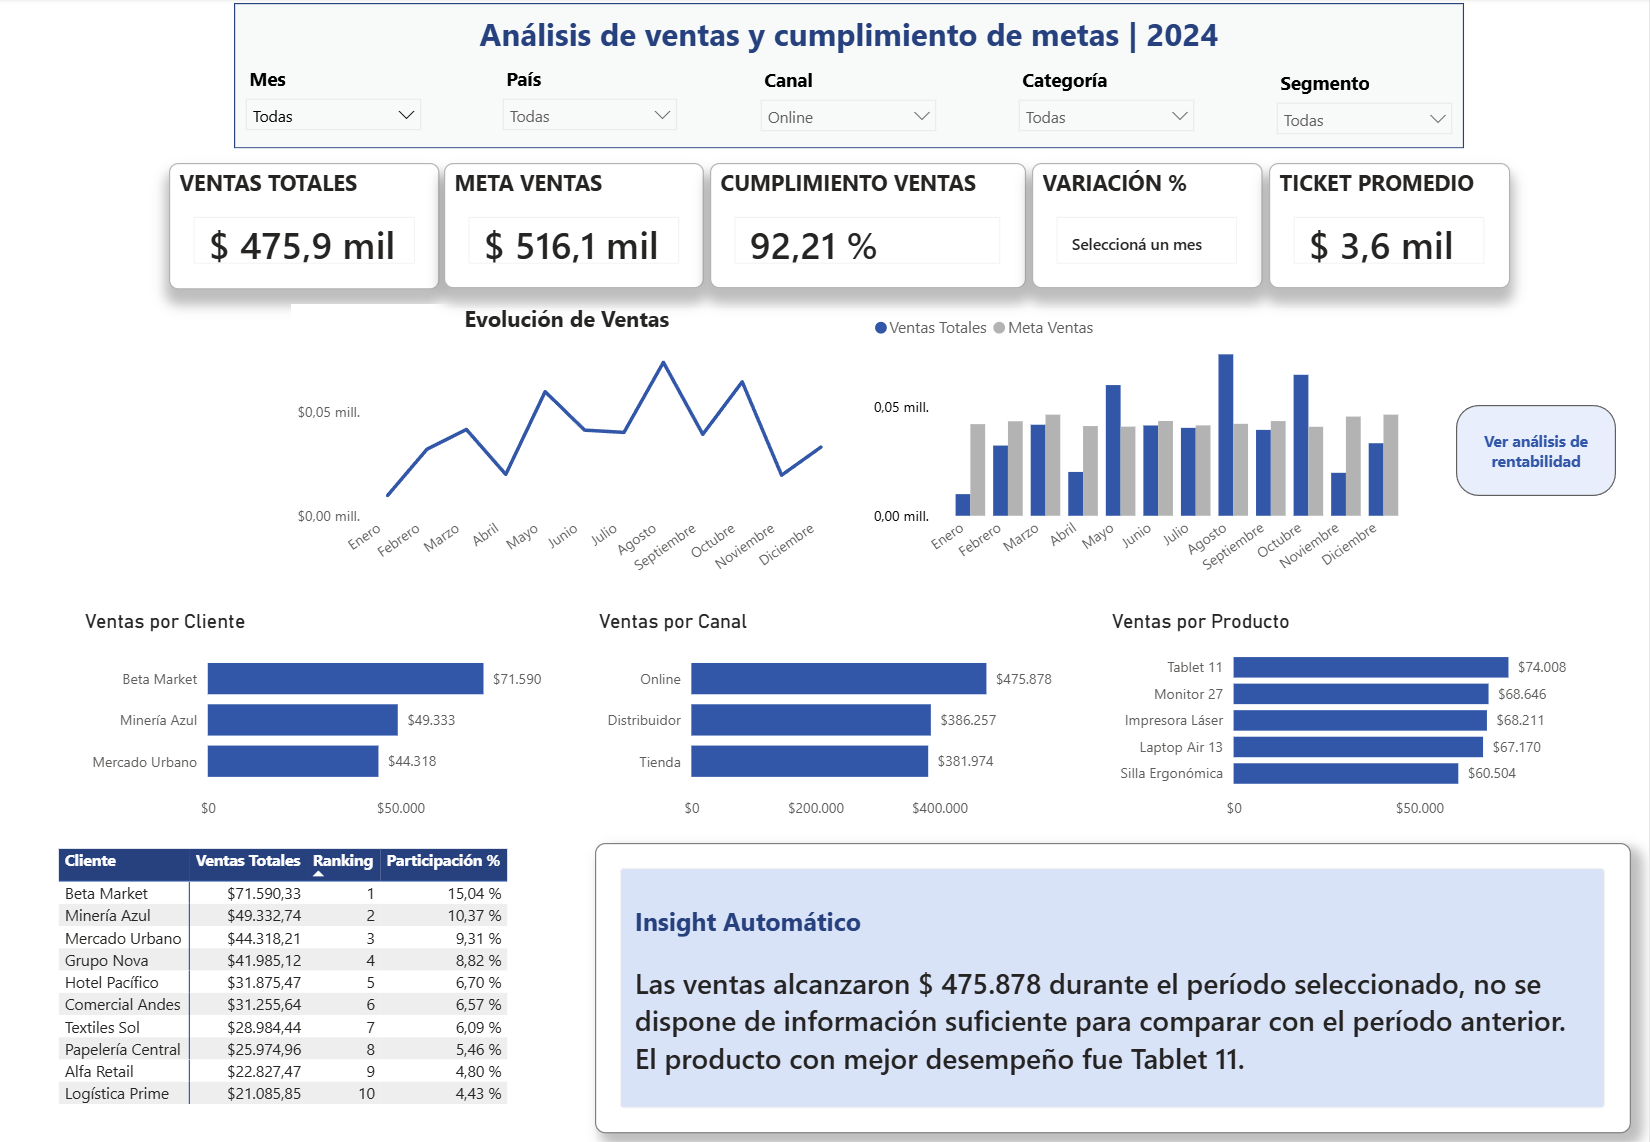

Layout of this report page (visuals, bound fields, positions):
{"tool":"powerbi","page":{"name":"Resumen ejecutivo","canvas":[1408,985],"ordinal":0},"visuals":[{"type":"shape","box":[199.8,4,1050.8,124.2],"z":0},{"type":"textbox","box":[199.8,6.7,1050.8,53.7],"z":1000},{"type":"slicer","fields":{"Values":["Tabla Calendario.NombreMesLargo"]},"box":[199.8,53,169.9,65.5],"z":1000,"group":"g1"},{"type":"group","id":"g1","title":"Grupo 1","box":[199.8,53,1051.3,70],"z":2000},{"type":"slicer","fields":{"Values":["TblDimClienteDirty.Pais"]},"box":[419.7,53,169,65],"z":2000,"group":"g1"},{"type":"slicer","fields":{"Values":["TblDimCanalDirty.Canal"]},"box":[640.1,53.7,170.3,66.3],"z":3000,"group":"g1"},{"type":"cardVisual","title":"VENTAS TOTALES","fields":{"Data":["Medidas.Ventas_Totales"]},"box":[144,141,231,107.5],"z":3000},{"type":"lineChart","title":"Evolución de Ventas","fields":{"Category":["Tabla Calendario.NombreMesLargo"],"Y":["Medidas.Ventas_Totales"]},"box":[248.8,261.2,471.2,251.2],"z":4000},{"type":"slicer","fields":{"Values":["TblDimProductoDirty.Categoria"]},"box":[860.5,54.1,170.3,66.3],"z":5000,"group":"g1"},{"type":"cardVisual","title":"META VENTAS","fields":{"Data":["Medidas.Meta Ventas"]},"box":[379,141,222,107],"z":5000},{"type":"slicer","fields":{"Values":["TblDimClienteDirty.Segmento"]},"box":[1080.9,56.6,170.3,66.3],"z":6000,"group":"g1"},{"type":"clusteredColumnChart","title":"Ventas vs Meta","fields":{"Category":["Tabla Calendario.NombreMesLargo"],"Y":["Medidas.Ventas_Totales","Medidas.Meta Ventas"]},"box":[741.2,261,471.2,251.2],"z":6000},{"type":"barChart","title":"Ventas por Producto","fields":{"Category":["TblDimProductoDirty.Producto"],"Y":["Medidas.Ventas_Totales"]},"box":[945.1,522,419.7,188],"z":7000},{"type":"cardVisual","title":"CUMPLIMIENTO VENTAS","fields":{"Data":["Medidas.Cumplimiento Meta"]},"box":[606.4,141,269.6,107],"z":8000},{"type":"pivotTable","fields":{"Rows":["TblDimClienteDirty.Cliente"],"Values":["Medidas.Ventas_Totales","Medidas.Ranking Clientes","Medidas.Participacion Ventas %"]},"box":[45.3,721.8,446.5,248.4],"z":9000},{"type":"cardVisual","title":"VARIACIÓN %","fields":{"Data":["Medidas.Variacion % Tarjeta"]},"box":[881.6,141,196.9,107],"z":10000},{"type":"cardVisual","fields":{"Data":["Medidas.Insight Automático"]},"box":[508.6,721.8,884.6,248.4],"z":11000},{"type":"barChart","title":"Ventas por Cliente","fields":{"Category":["TblDimClienteDirty.Cliente"],"Y":["Medidas.Ventas_Totales"]},"box":[67.1,522,421.3,188],"z":12000},{"type":"cardVisual","title":"TICKET PROMEDIO","fields":{"Data":["Medidas.Ticket_Promedio"]},"box":[1084,141,205.6,107],"z":13000},{"type":"barChart","title":"Ventas por Canal","fields":{"Category":["TblDimCanalDirty.Canal"],"Y":["Medidas.Ventas_Totales"]},"box":[506.3,522,421,188],"z":14000},{"type":"actionButton","title":"Ver","box":[1243.9,347.7,136.7,77.7],"z":15000}]}

Visuals, with their boxes in screenshot pixels (x1, y1, x2, y2), scaled from the page's 1408x985 canvas onto the 1650x1142 screenshot:
shape: (234,5,1466,149)
textbox: (234,8,1466,70)
slicer - Tabla Calendario.NombreMesLargo: (234,61,433,137)
"Grupo 1" group: (234,61,1466,143)
slicer - TblDimClienteDirty.Pais: (492,61,690,137)
slicer - TblDimCanalDirty.Canal: (750,62,950,139)
"VENTAS TOTALES" cardVisual: (169,163,439,288)
"Evolución de Ventas" lineChart: (292,303,844,594)
slicer - TblDimProductoDirty.Categoria: (1008,63,1208,140)
"META VENTAS" cardVisual: (444,163,704,288)
slicer - TblDimClienteDirty.Segmento: (1267,66,1466,142)
"Ventas vs Meta" clusteredColumnChart: (869,303,1421,594)
"Ventas por Producto" barChart: (1108,605,1599,823)
"CUMPLIMIENTO VENTAS" cardVisual: (711,163,1027,288)
pivotTable - TblDimClienteDirty.Cliente x Medidas.Ventas_Totales: (53,837,576,1125)
"VARIACIÓN %" cardVisual: (1033,163,1264,288)
cardVisual - Medidas.Insight Automático: (596,837,1633,1125)
"Ventas por Cliente" barChart: (79,605,572,823)
"TICKET PROMEDIO" cardVisual: (1270,163,1511,288)
"Ventas por Canal" barChart: (593,605,1087,823)
"Ver" actionButton: (1458,403,1618,493)
